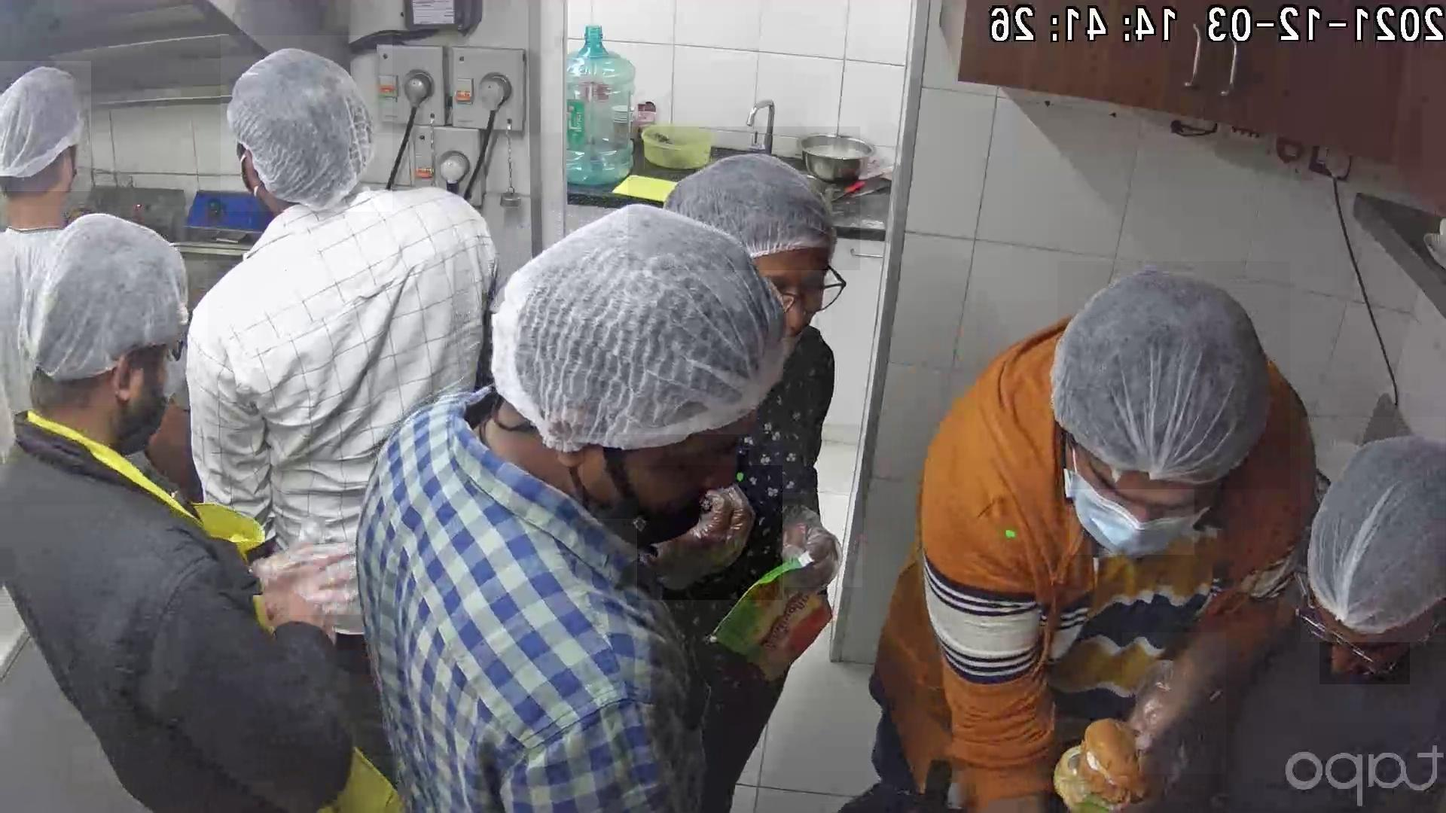apron: (637, 465, 782, 600), (1123, 633, 1227, 775), (257, 528, 366, 615), (782, 492, 863, 587)
gloves: (483, 202, 801, 434), (1058, 262, 1290, 490), (21, 207, 209, 406), (628, 126, 860, 270), (1301, 417, 1446, 642), (221, 36, 393, 212), (0, 61, 91, 191)
mask: (1069, 470, 1194, 555)
no_hairnet: (583, 421, 749, 519), (1319, 604, 1410, 684), (752, 255, 831, 335)
